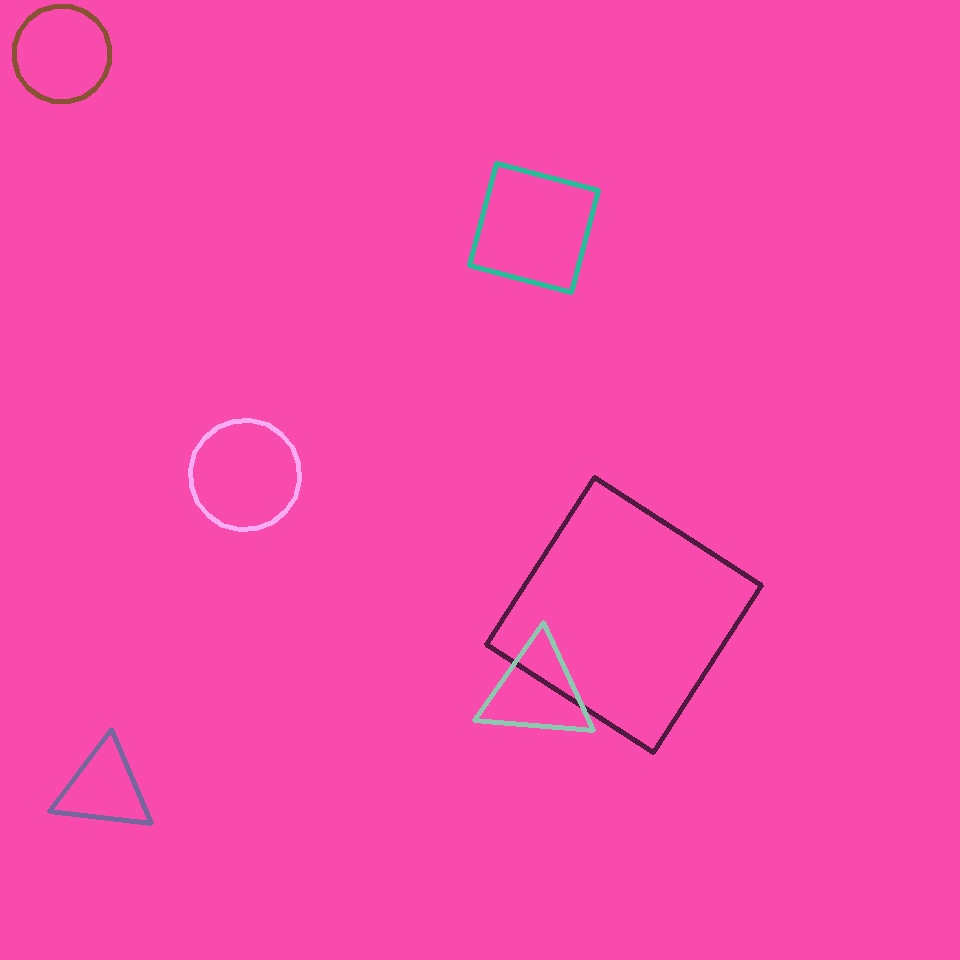circle: (477, 637, 596, 745), (53, 741, 155, 835)
square: (487, 478, 762, 752), (470, 163, 598, 292)
triangle: (190, 420, 300, 530), (15, 7, 110, 102)
